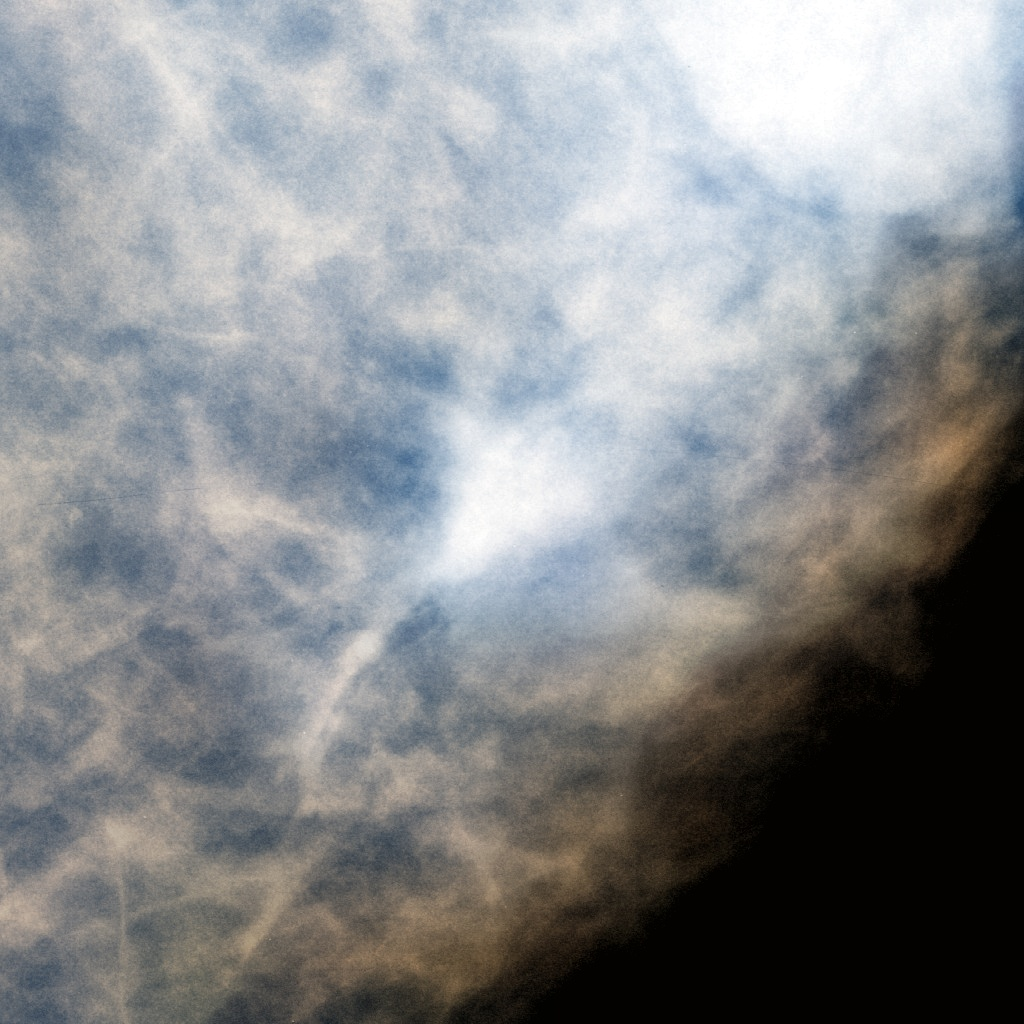tumor: (389, 380, 635, 644)
